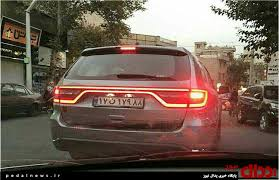car: (92, 95, 146, 109)
